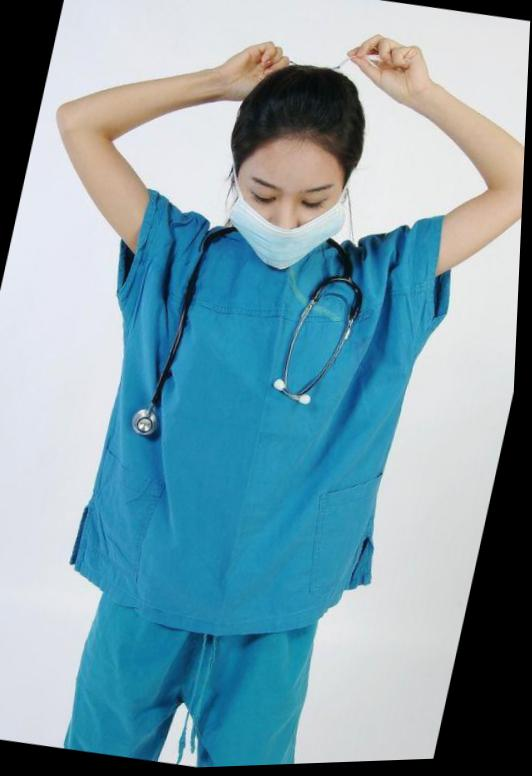WRONG: (222, 125, 356, 283)
